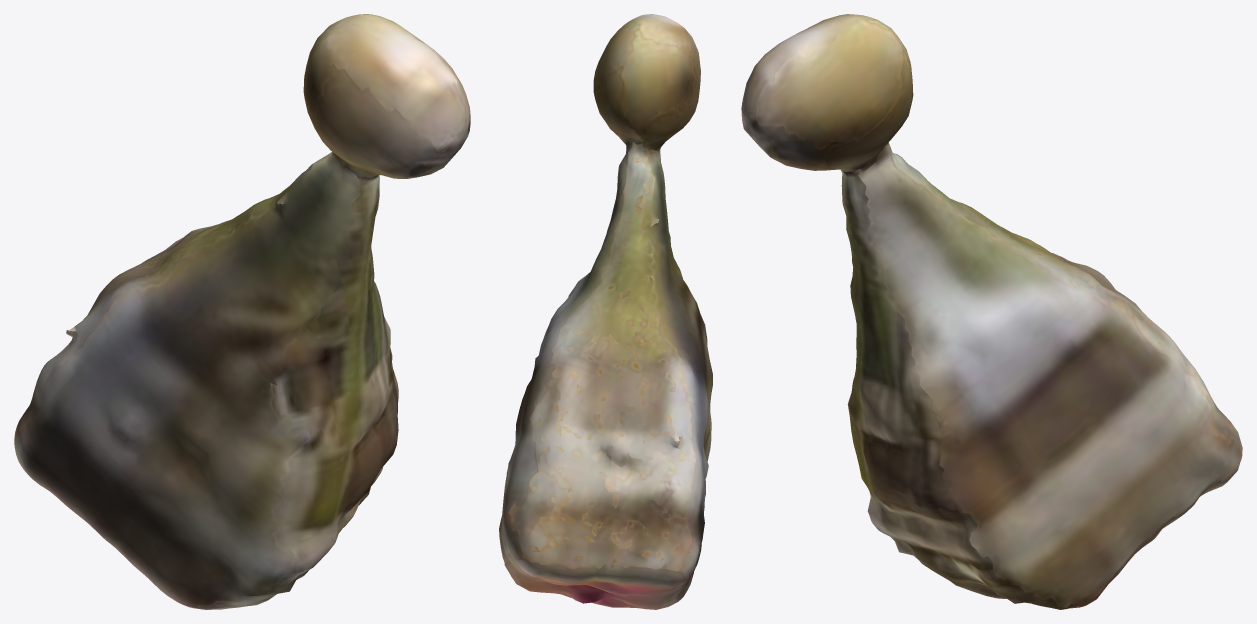
Rendered from 10_vase.glb.
3 renders of one model, left to right at view 1: azimuth 30°, elevation 25°; view 2: azimuth 150°, elevation 25°; view 3: azimuth 270°, elevation 25°, orthographic. The views are drawn at different scales.
Parts seen in each view (by area): view 1: 10_vase; view 2: 10_vase; view 3: 10_vase.
Part boxes in pixels (left/top/right/bottom): 10_vase: left=14, top=14, right=470, bottom=609; 10_vase: left=499, top=14, right=712, bottom=609; 10_vase: left=741, top=14, right=1242, bottom=609.
Bounding box in the file's own units: 0.1438 × 0.2994 × 0.2262.
Materials: 1 (1 with a texture image).
